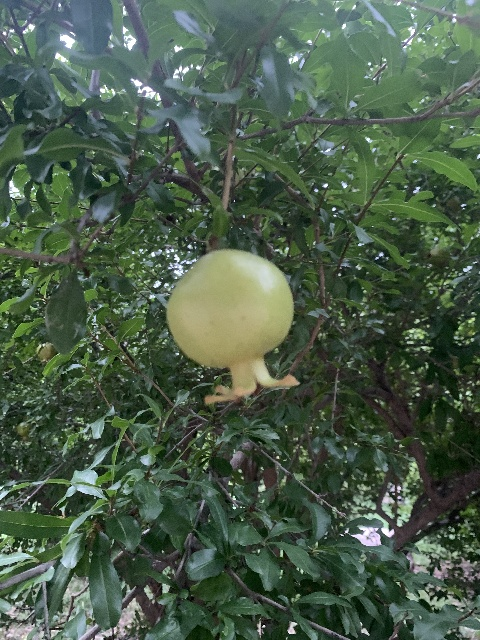mid-growth: (165, 248, 299, 407), (36, 343, 54, 366), (15, 421, 32, 443)
